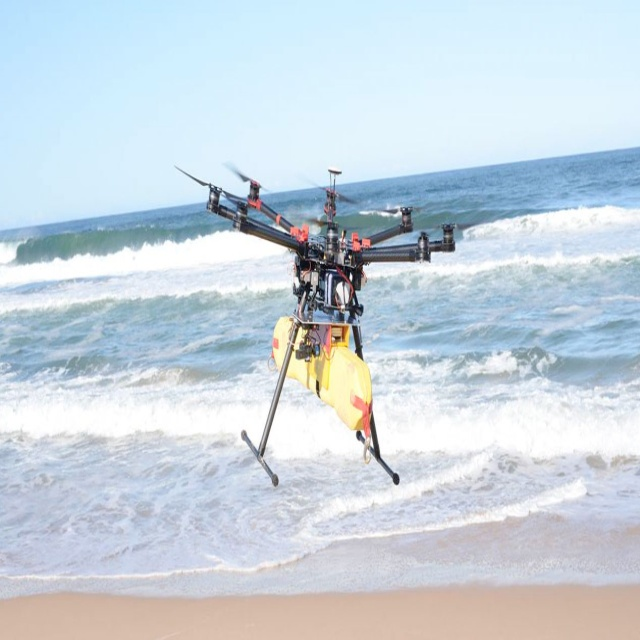drone: (182, 169, 475, 350)
